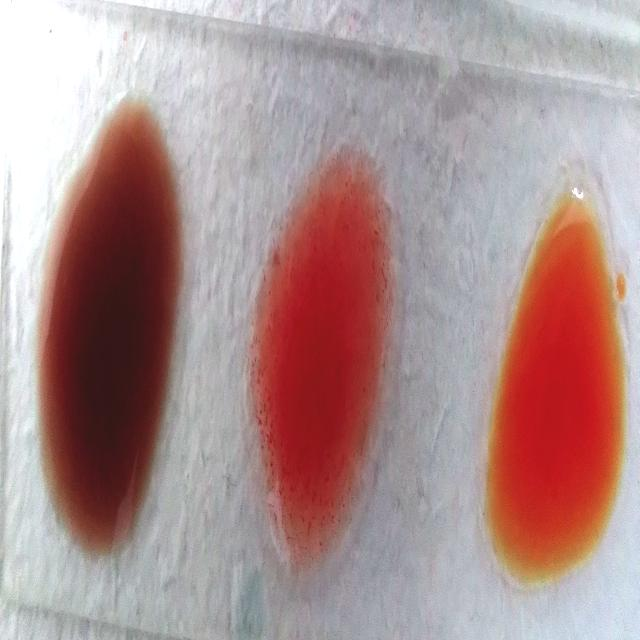D: (248, 146, 396, 568)
